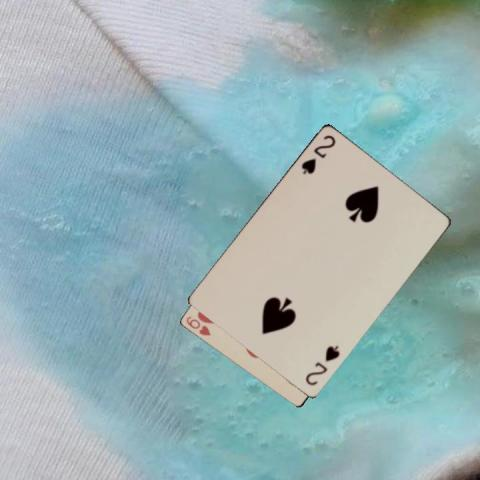2s: (302, 342, 341, 387), (298, 132, 337, 176)
6h: (183, 313, 213, 337)
